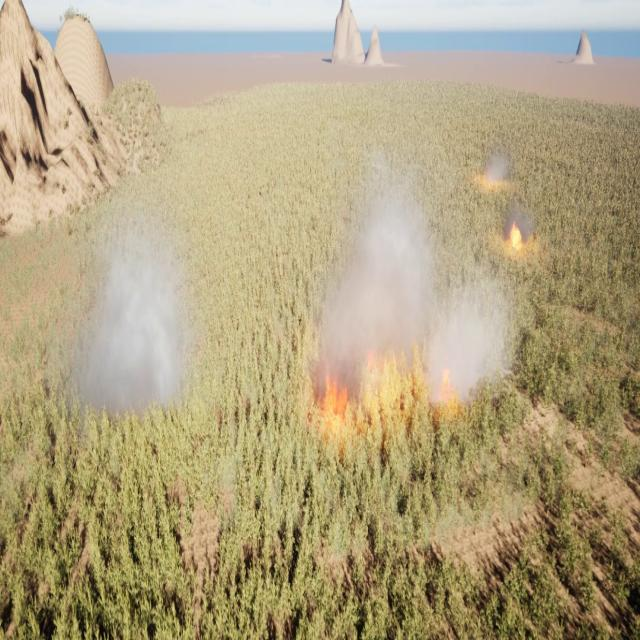fire: (318, 363, 352, 418), (362, 347, 411, 385), (438, 369, 461, 406), (508, 219, 522, 250)
smoke: (304, 149, 512, 404), (61, 225, 202, 412), (484, 149, 513, 183), (509, 207, 533, 244)
